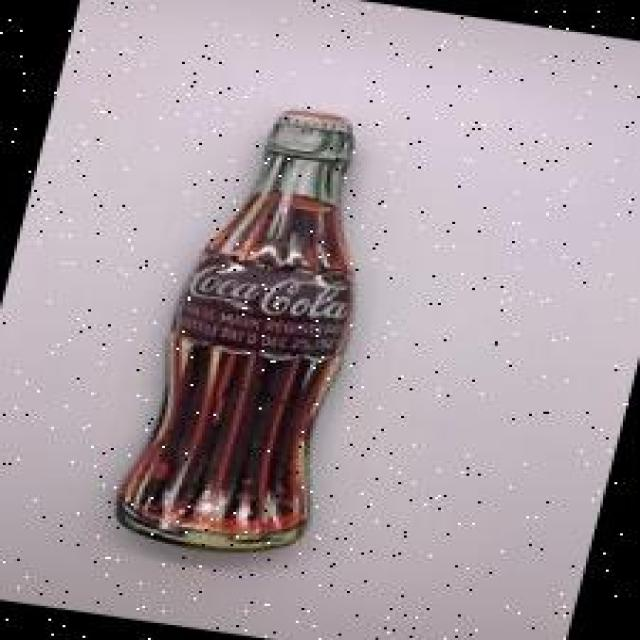coca-cola: (88, 88, 424, 578)
